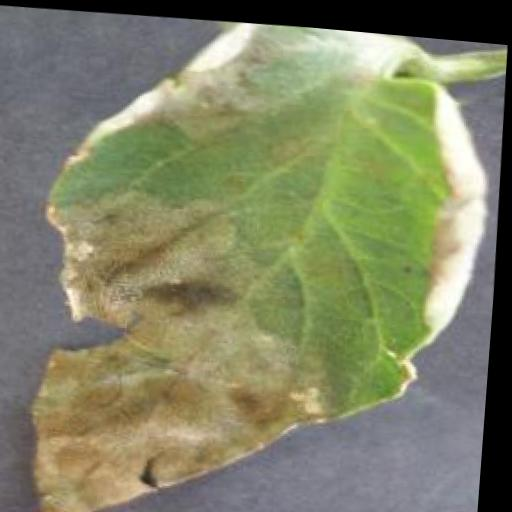Late Blight: (21, 4, 503, 512)
